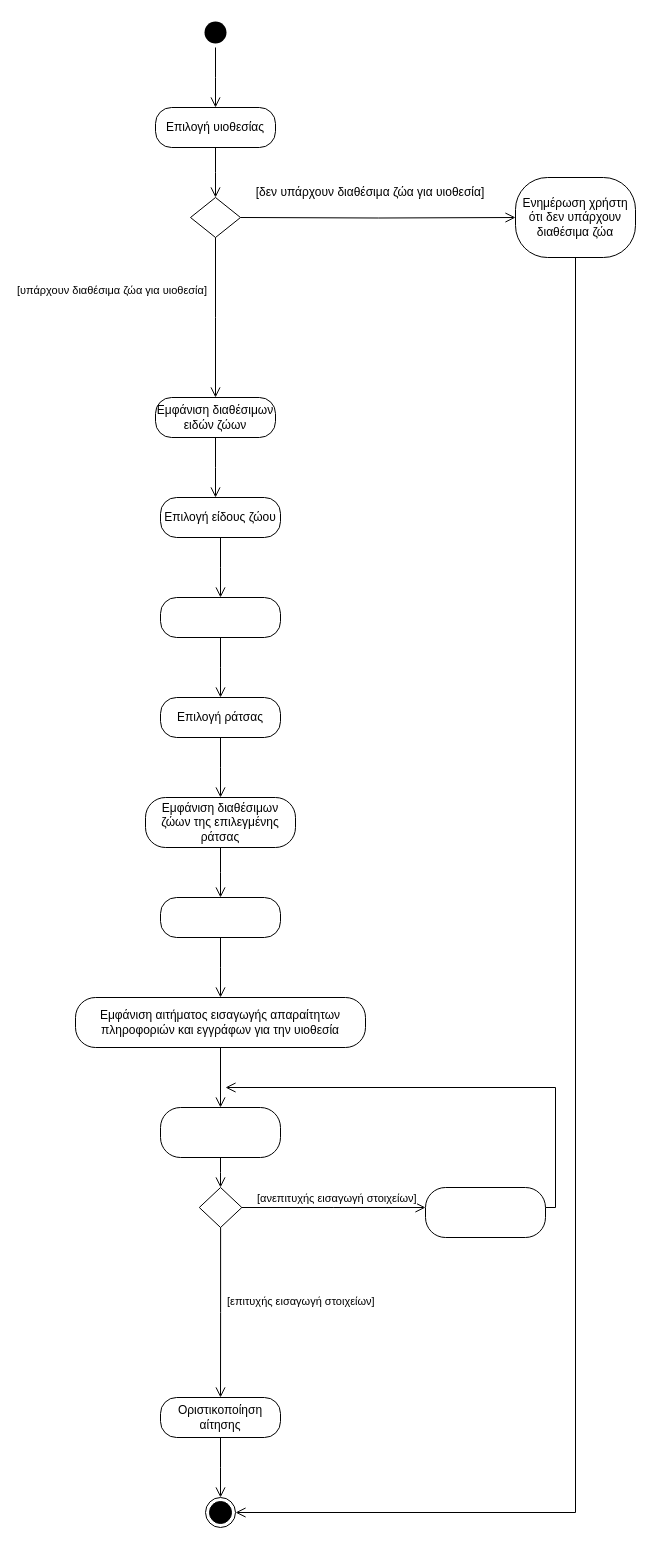
The diagram is 653 pixels wide and 1545 high, and some of its shapes have lost their labels. The shapes that lost their labels are listed below. From the top down, each one's box as (x1, y1, x2, y2) in pixels, then its label:
(160, 596, 280, 638): Εμφάνιση επιλογών ράτσας ζώου
(160, 896, 280, 938): Επιλογή ζώου για υιοθεσία
(160, 1106, 280, 1158): Εισαγωγή πληροφοριών και εγγράφων
(424, 1186, 546, 1238): Ενημέρωση χρήστη για ανεπιτυχή εισαγωγή
